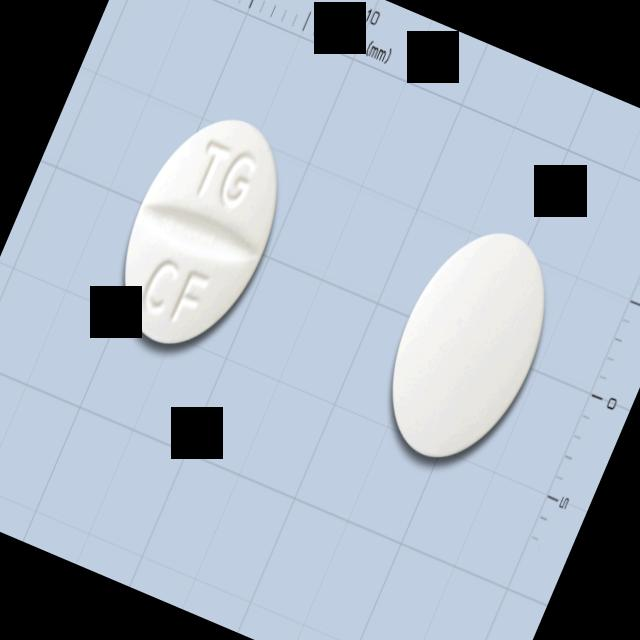Taiguk Ciprofloxacin HCl Tab: (93, 97, 307, 368)
